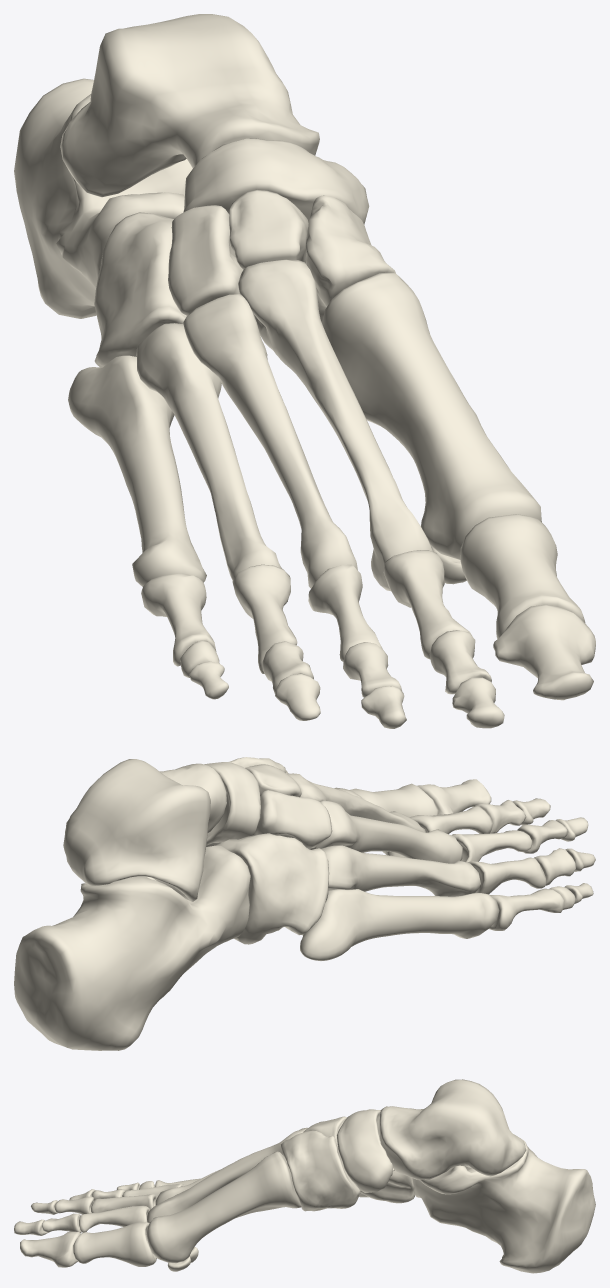
File: foot-BWnQKbN6.glb
3 views of the same model, one above another, from view 1: azimuth 30°, elevation 25°; view 2: azimuth 150°, elevation 25°; view 3: azimuth 270°, elevation 25° (orthographic). The views are drawn at different scales.
Visible parts, largest first — view 1: CentralRaysBones, FirstRayBones, LateralRaysBones, TalusBones, CalcaneusBones, CuneiformsBones, CuboidBones, NavicularBones; view 2: CalcaneusBones, LateralRaysBones, TalusBones, CentralRaysBones, CuboidBones, CuneiformsBones, FirstRayBones, NavicularBones; view 3: CalcaneusBones, FirstRayBones, TalusBones, CentralRaysBones, CuneiformsBones, NavicularBones, LateralRaysBones, CuboidBones.
Boxes of the visible parts, x1,y1,x2,y2 form: CentralRaysBones: (183, 259, 504, 728); FirstRayBones: (321, 272, 595, 700); LateralRaysBones: (68, 323, 320, 720); TalusBones: (60, 14, 319, 197); CalcaneusBones: (14, 78, 192, 318); CuneiformsBones: (168, 189, 395, 321); CuboidBones: (94, 212, 186, 367); NavicularBones: (183, 138, 369, 224); CalcaneusBones: (14, 845, 250, 1050); LateralRaysBones: (300, 845, 595, 960); TalusBones: (63, 759, 226, 901); CentralRaysBones: (287, 773, 588, 863); CuboidBones: (216, 833, 329, 944); CuneiformsBones: (206, 757, 332, 848); FirstRayBones: (286, 771, 491, 817); NavicularBones: (204, 762, 260, 845); CalcaneusBones: (412, 1137, 595, 1273); FirstRayBones: (20, 1151, 301, 1271); TalusBones: (379, 1079, 526, 1179); CentralRaysBones: (14, 1127, 307, 1235); CuneiformsBones: (281, 1116, 360, 1211); NavicularBones: (336, 1109, 394, 1192); LateralRaysBones: (69, 1178, 368, 1200); CuboidBones: (360, 1170, 414, 1203).
Size of the model in its own units: 0.0945 by 0.0762 by 0.2306.
